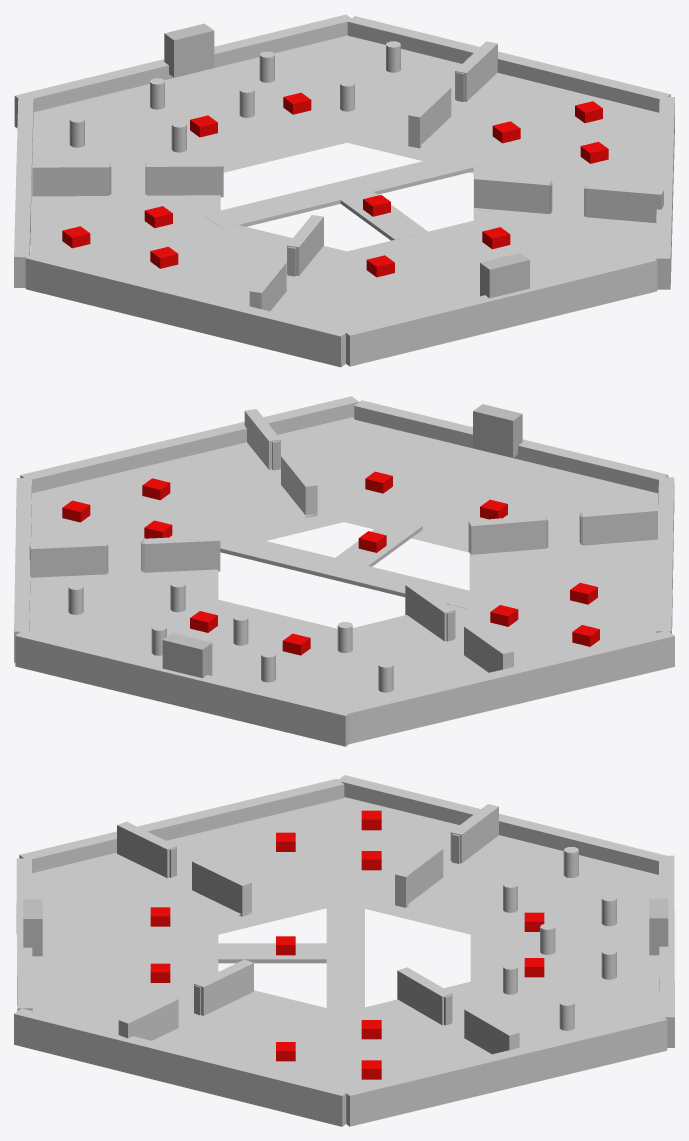
Rendered from Level2_b1.fbx.
3 renders of one model, top to bottom at view 1: azimuth 30°, elevation 25°; view 2: azimuth 150°, elevation 25°; view 3: azimuth 270°, elevation 25°, orthographic.
Parts seen in each view (by area): view 1: Box037, Box004, Box003; view 2: Box037, Box003, Box004; view 3: Box037, Box003, Box004.
Boxes of the visible parts, bbox=[...] form: Box037: bbox=[14, 14, 674, 367]; Box004: bbox=[164, 23, 214, 77]; Box003: bbox=[480, 253, 529, 298]; Box037: bbox=[14, 396, 674, 746]; Box003: bbox=[473, 404, 522, 457]; Box004: bbox=[162, 633, 212, 678]; Box037: bbox=[14, 775, 674, 1126]; Box003: bbox=[23, 899, 42, 956]; Box004: bbox=[649, 898, 668, 955].
Bounding box in the file's own units: 178 × 15.41 × 155.
